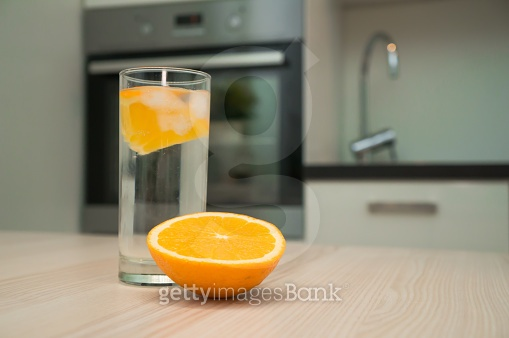glass of water: (119, 62, 210, 289)
